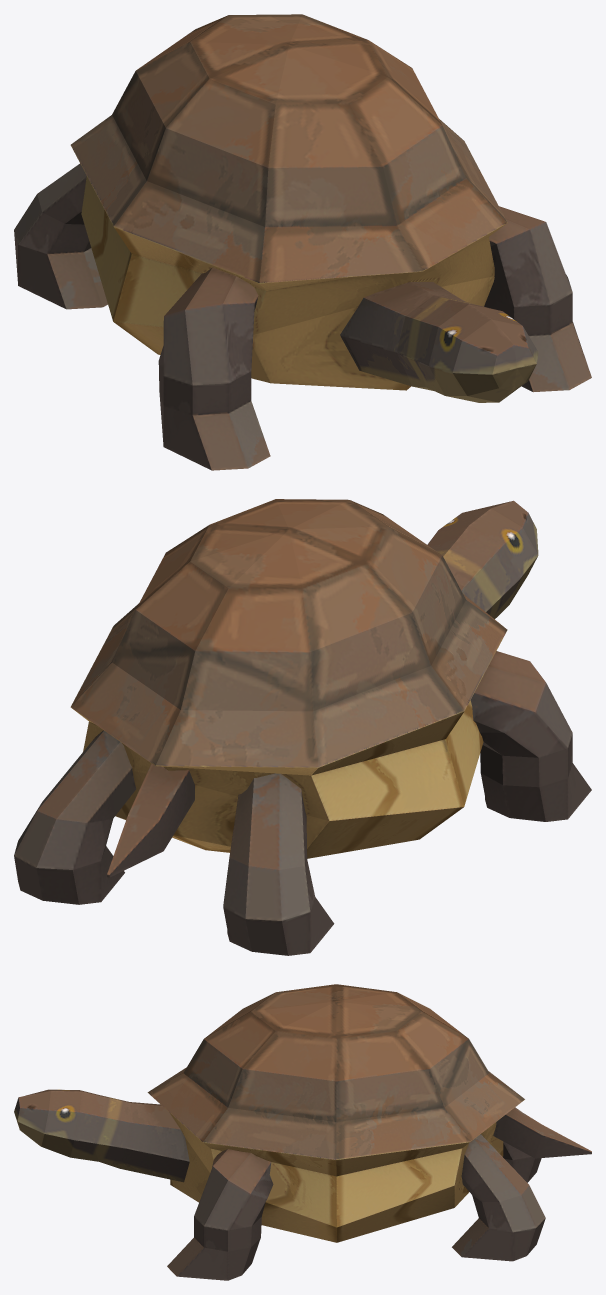
The model's file is ForestTurtle.fbx.
The picture shows the model from 3 angles, top to bottom: view 1: azimuth 30°, elevation 25°; view 2: azimuth 150°, elevation 25°; view 3: azimuth 270°, elevation 25°; orthographic projection. The views are drawn at different scales.
Visible parts, largest first — view 1: ForestTurtle; view 2: ForestTurtle; view 3: ForestTurtle.
Part boxes in pixels (x1=…): ForestTurtle: x1=14, y1=14, x2=591, y2=470; ForestTurtle: x1=14, y1=499, x2=591, y2=955; ForestTurtle: x1=14, y1=984, x2=591, y2=1280.
Bounding box in the file's own units: 67.51 × 47.3 × 118.
